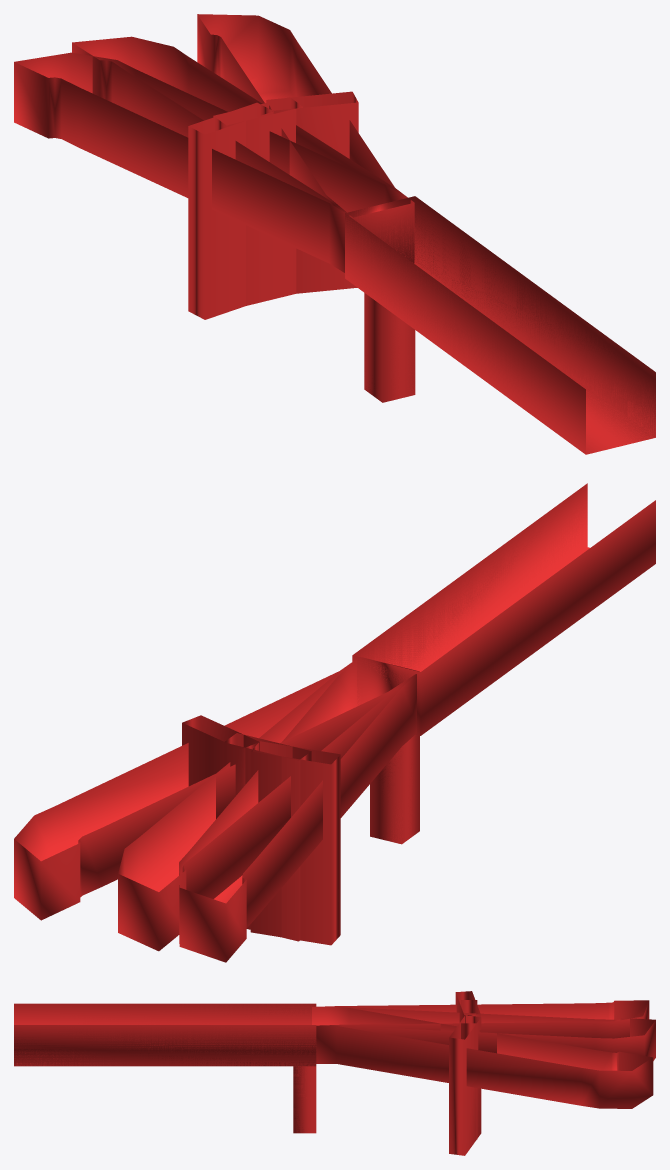
The model's file is colmesh_gangways.fbx.
3 views of the same model, one above another, from view 1: azimuth 30°, elevation 25°; view 2: azimuth 150°, elevation 25°; view 3: azimuth 270°, elevation 25° (orthographic). The views are drawn at different scales.
Parts seen in each view (by area): view 1: gangway1_colmesh, gangway3_colmesh, gangway2_colmesh; view 2: gangway1_colmesh, gangway3_colmesh, gangway2_colmesh; view 3: gangway3_colmesh, gangway1_colmesh, gangway2_colmesh.
Boxes of the visible parts, box(x1,y1,x2,y2) form: gangway1_colmesh: box(72, 36, 655, 454); gangway3_colmesh: box(197, 14, 655, 454); gangway2_colmesh: box(14, 52, 413, 319); gangway1_colmesh: box(118, 483, 655, 951); gangway3_colmesh: box(14, 484, 655, 920); gangway2_colmesh: box(179, 659, 416, 962); gangway3_colmesh: box(14, 1003, 653, 1155); gangway1_colmesh: box(14, 1000, 655, 1139); gangway2_colmesh: box(315, 991, 649, 1038).
Size of the model in its own units: 952 by 713 by 3568.
